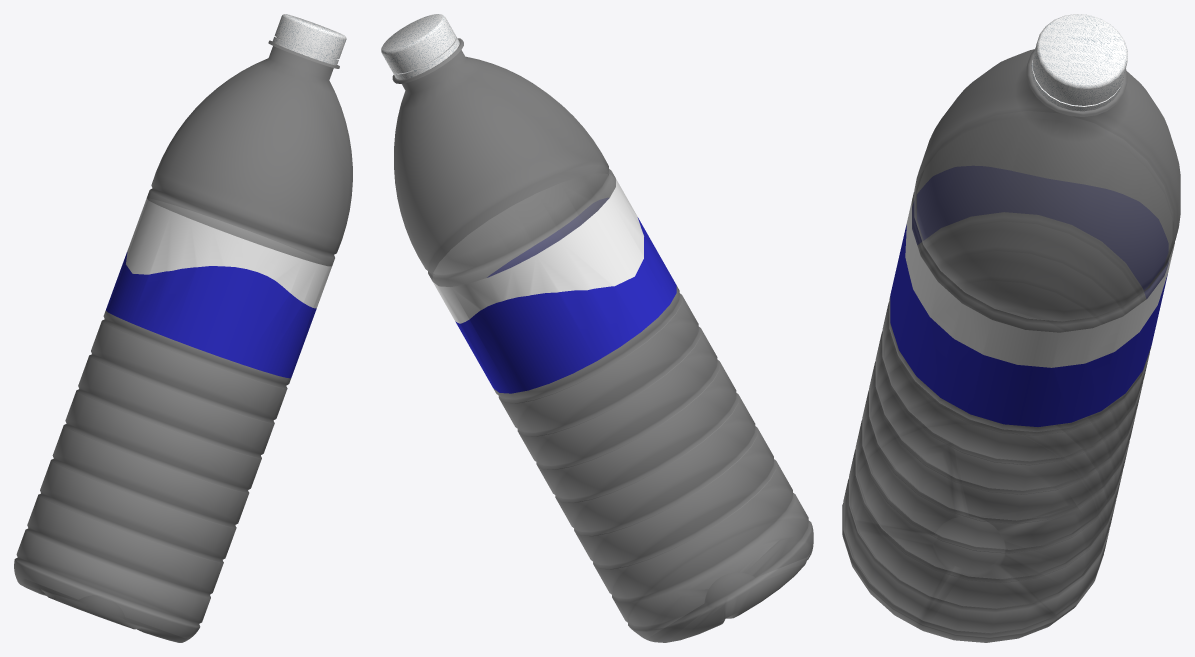
File: water_bottle.fbx
3 renders of one model, left to right at view 1: azimuth 30°, elevation 25°; view 2: azimuth 150°, elevation 25°; view 3: azimuth 270°, elevation 25°, orthographic. The views are drawn at different scales.
Visible parts, largest first — view 1: Component1; view 2: Component1; view 3: Component1.
Boxes of the visible parts, x1,y1,x2,y2 form: Component1: [14, 14, 352, 642]; Component1: [381, 14, 813, 642]; Component1: [842, 14, 1180, 642].
Size of the model in its own units: 21.52 by 32.11 by 13.35.
